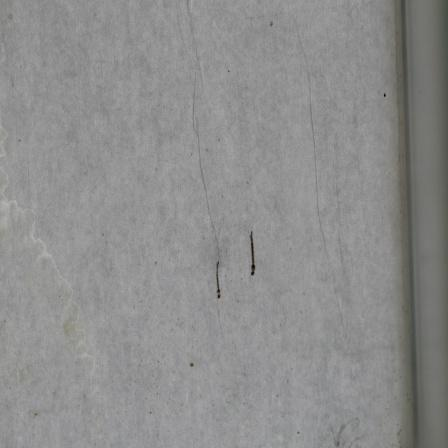Jentik-Nyamuk: (247, 228, 259, 282), (212, 257, 225, 302)
